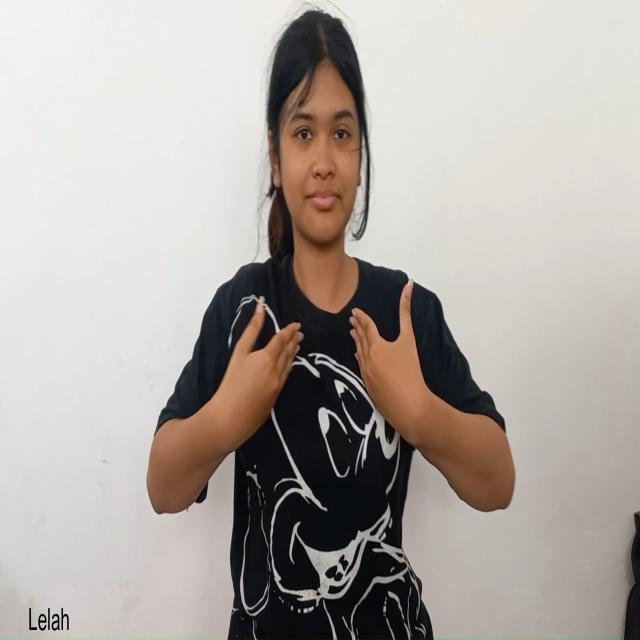Lelah -BISINDO-: (142, 272, 516, 538)
